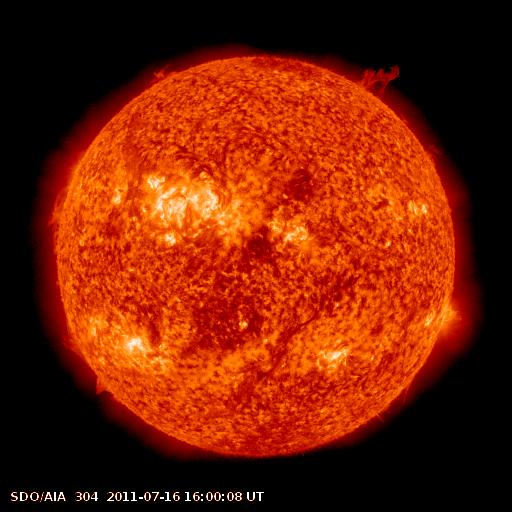prominence: (349, 50, 404, 106), (46, 183, 77, 255), (138, 60, 185, 94), (56, 327, 93, 360), (85, 371, 118, 400)
